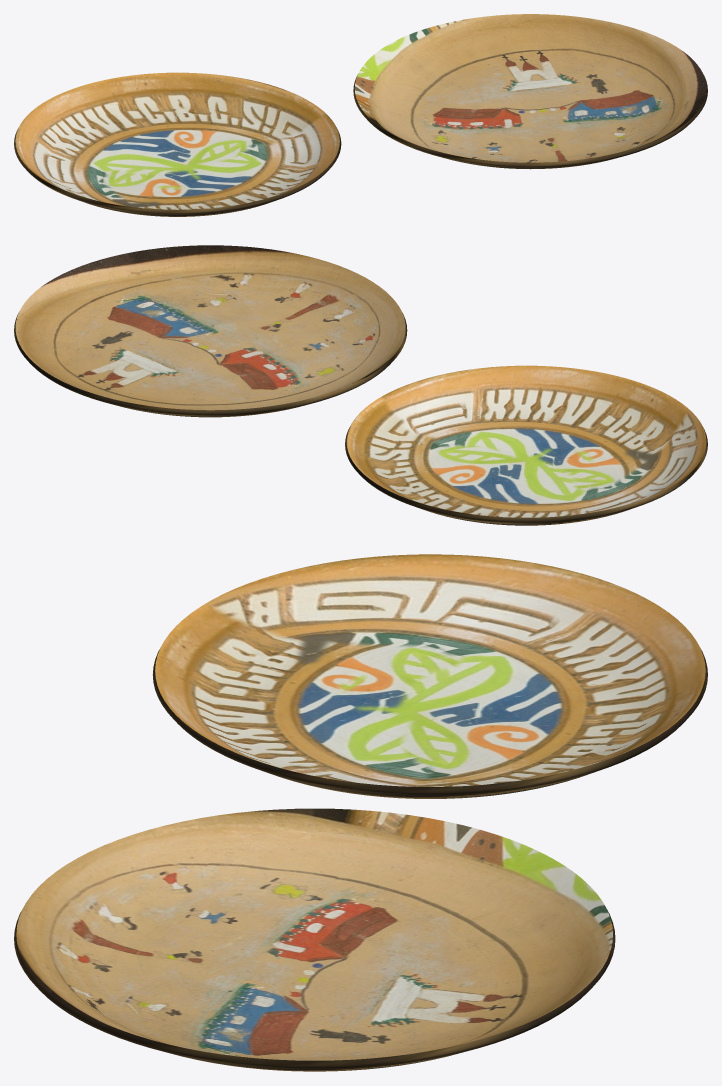
The model's file is pratos_23_09_web.glb.
3 views of the same model, one above another, from view 1: azimuth 30°, elevation 25°; view 2: azimuth 150°, elevation 25°; view 3: azimuth 270°, elevation 25° (orthographic). The views are drawn at different scales.
Visible parts, largest first — view 1: Prato_Cena_de_Vila, Prato_Congresso_Solo; view 2: Prato_Cena_de_Vila, Prato_Congresso_Solo; view 3: Prato_Cena_de_Vila, Prato_Congresso_Solo.
Boxes of the visible parts, x1=… form: Prato_Cena_de_Vila: x1=353, y1=14, x2=707, y2=169; Prato_Congresso_Solo: x1=14, y1=72, x2=341, y2=216; Prato_Cena_de_Vila: x1=14, y1=245, x2=407, y2=417; Prato_Congresso_Solo: x1=345, y1=365, x2=707, y2=525; Prato_Cena_de_Vila: x1=14, y1=808, x2=615, y2=1071; Prato_Congresso_Solo: x1=152, y1=554, x2=707, y2=798.
Bounding box in the file's own units: 0.52 × 0.026 × 0.3.
Materials: 3 (3 with a texture image).
